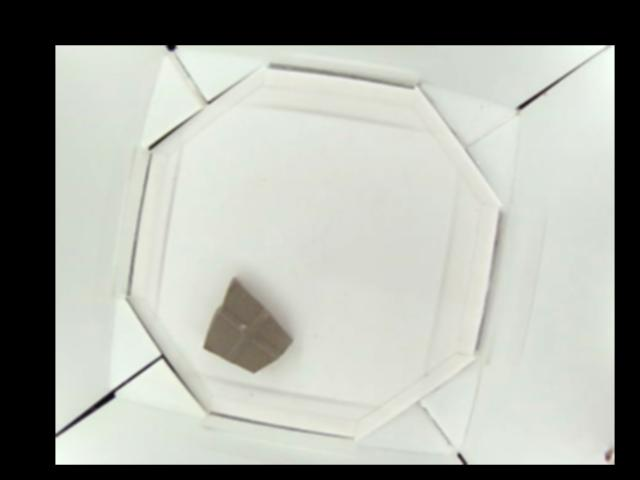China: (201, 275, 290, 371)
